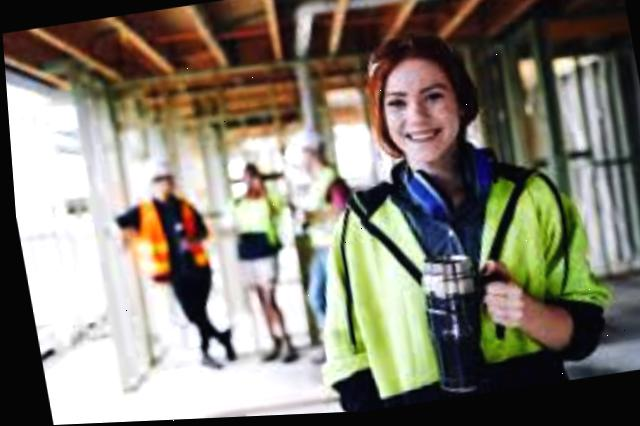helmet: (279, 125, 330, 162), (133, 155, 178, 185)
vest: (121, 189, 211, 282)
